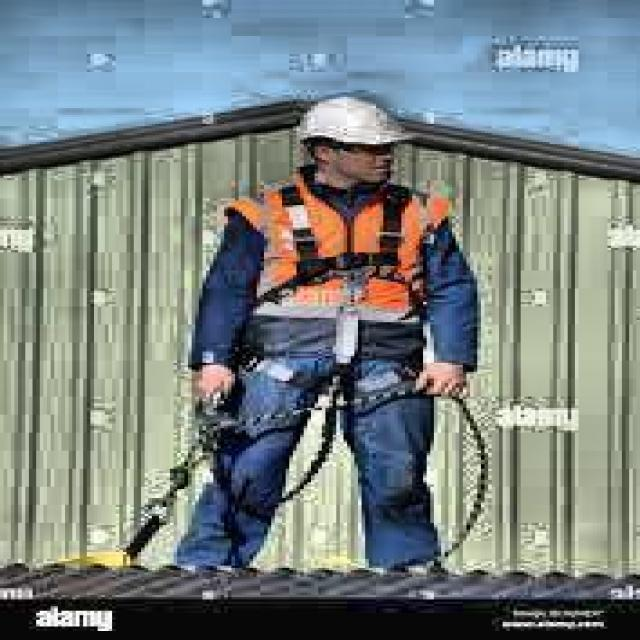belt: (235, 180, 441, 397)
